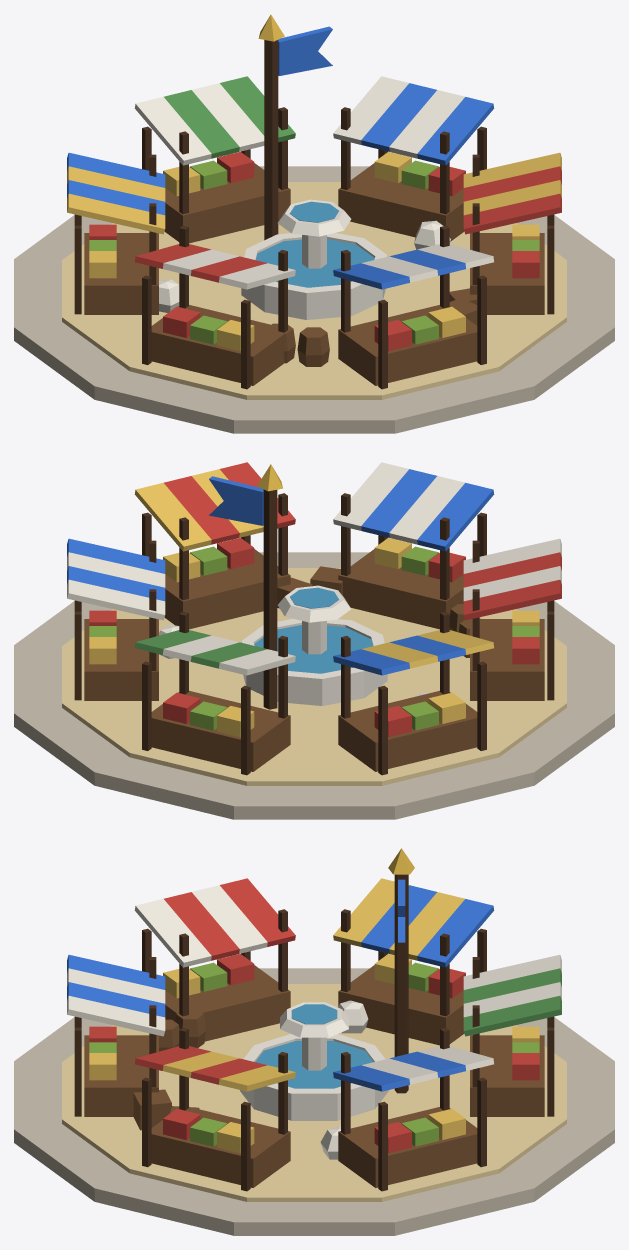
File: bld_market.glb
3 views of the same model, one above another, from view 1: azimuth 30°, elevation 25°; view 2: azimuth 150°, elevation 25°; view 3: azimuth 270°, elevation 25° (orthographic).
Visible parts, largest first — view 1: bld_market; view 2: bld_market; view 3: bld_market.
Part boxes in pixels (box(x1,y1,x2,y2)): bld_market: box(14, 14, 614, 433); bld_market: box(14, 462, 614, 819); bld_market: box(14, 848, 614, 1235).
Bounding box in the file's own units: 0.483 × 0.2312 × 0.483.
